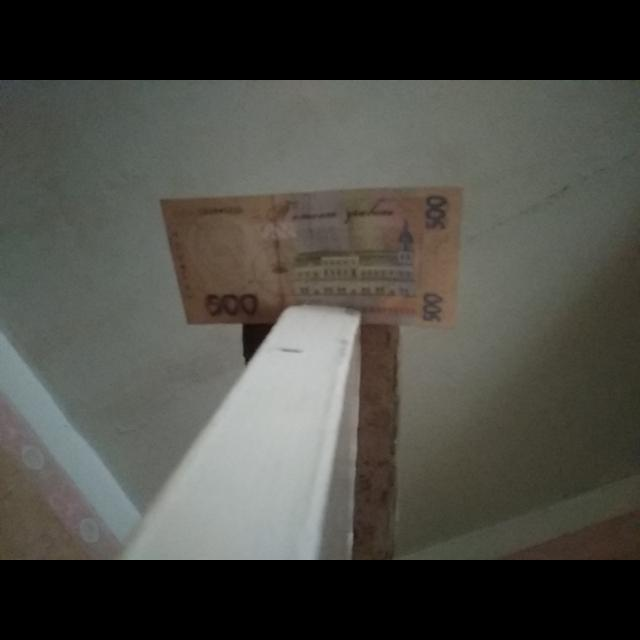500uah: (160, 187, 462, 329)
